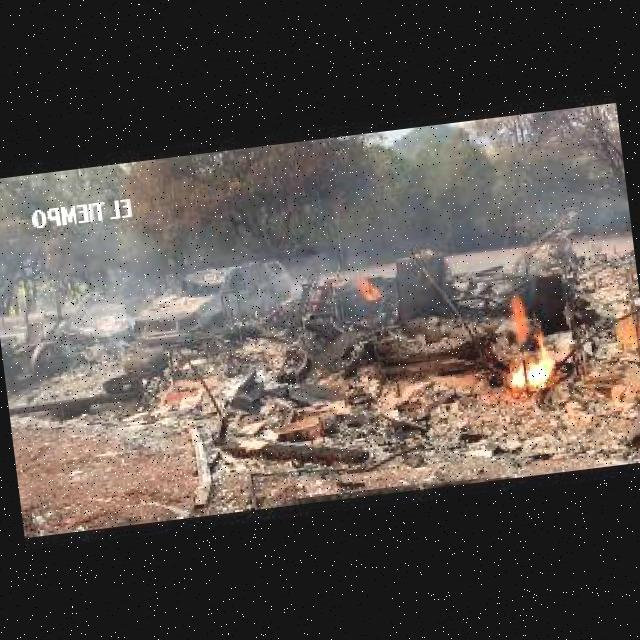Fire: (507, 340, 562, 388), (505, 297, 530, 341), (359, 275, 382, 301)
